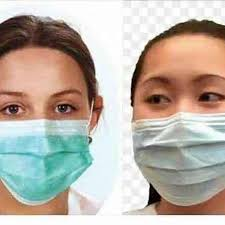surgical: (127, 110, 225, 205), (1, 117, 93, 204)
